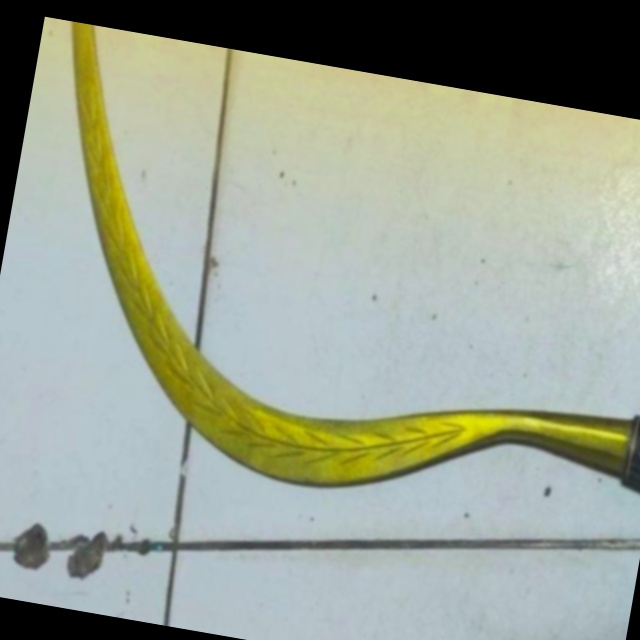Sharp-Object: (10, 23, 640, 546)
